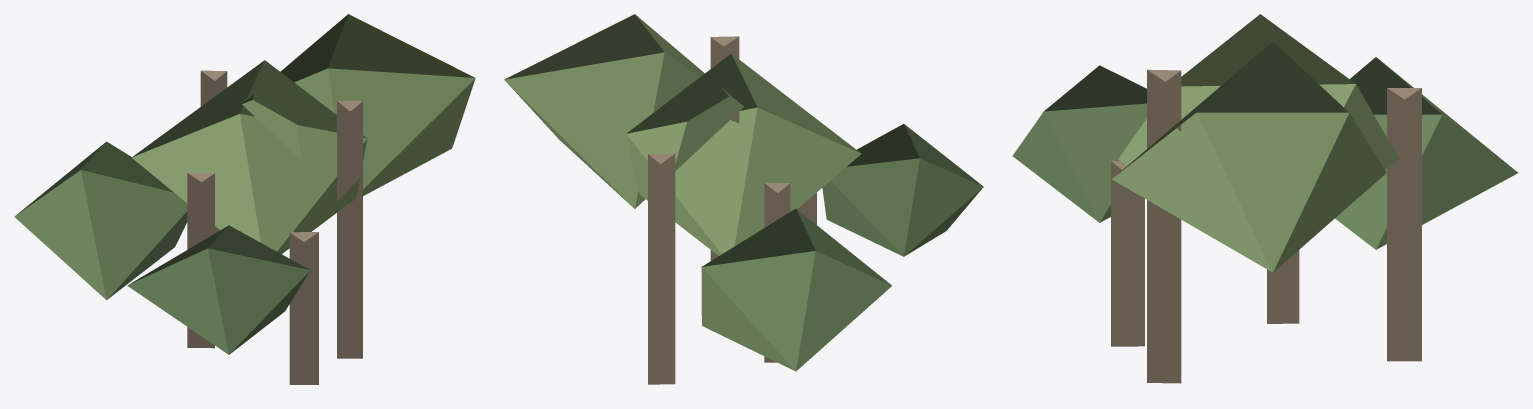
Rendered from shrub.sub.arid_bush__summer.glb.
The picture shows the model from 3 angles, left to right: view 1: azimuth 30°, elevation 25°; view 2: azimuth 150°, elevation 25°; view 3: azimuth 270°, elevation 25°; orthographic projection. The views are drawn at different scales.
Parts seen in each view (by area): view 1: shrub.sub.arid_bush__summer; view 2: shrub.sub.arid_bush__summer; view 3: shrub.sub.arid_bush__summer.
Part boxes in pixels (x1,y1,x2,y2): shrub.sub.arid_bush__summer: [14, 14, 475, 384]; shrub.sub.arid_bush__summer: [504, 14, 983, 384]; shrub.sub.arid_bush__summer: [1012, 14, 1517, 383].
Size of the model in its own units: 1.76 by 1.31 by 1.61.
